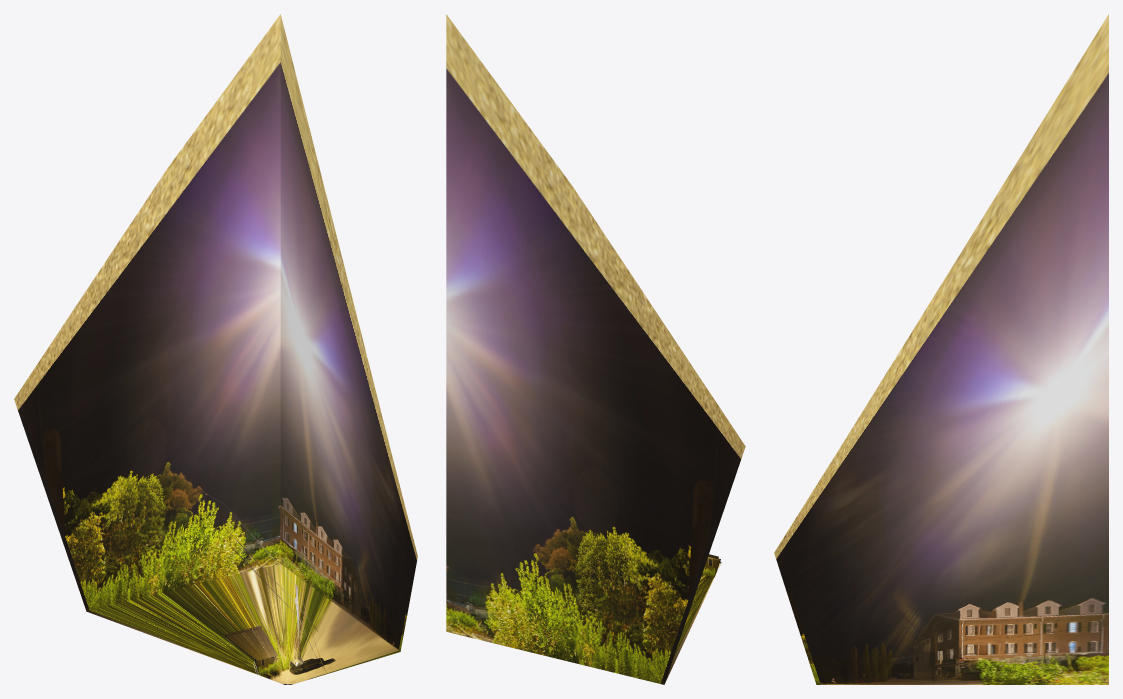
3 views of the same model, side by side, from view 1: azimuth 30°, elevation 25°; view 2: azimuth 150°, elevation 25°; view 3: azimuth 270°, elevation 25° (orthographic). The views are drawn at different scales.
Parts seen in each view (by area): view 1: Plane, House, Telephone pole; view 2: Plane; view 3: Plane.
Boxes of the visible parts, x1,y1,x2,y2 form: Plane: (14, 14, 417, 684); House: (225, 625, 277, 675); Telephone pole: (205, 493, 326, 672); Plane: (446, 14, 745, 684); Plane: (774, 14, 1108, 684).
Bounding box in the file's own units: 208 × 411 × 186.
Materials: 4 (3 with a texture image).
